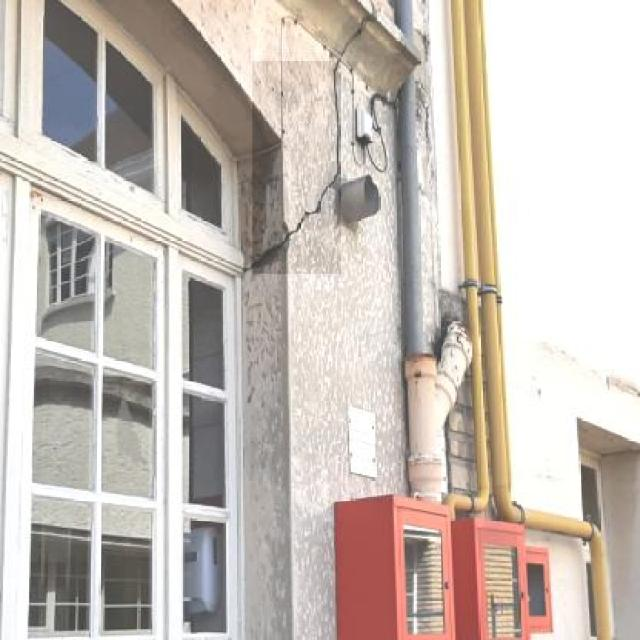Crack: (237, 0, 351, 287)
